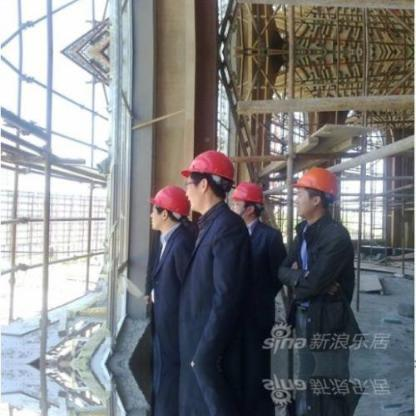helmet: (179, 147, 237, 188), (287, 160, 341, 202), (145, 187, 192, 221), (225, 178, 266, 211)
